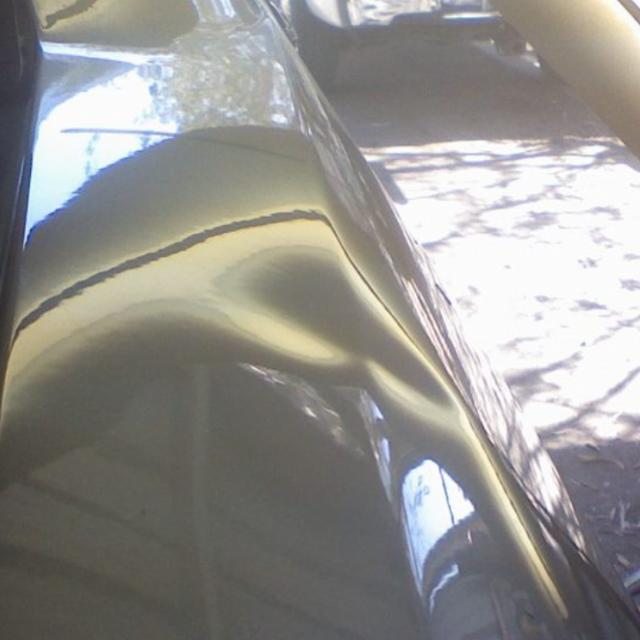dents: (199, 231, 493, 430)
